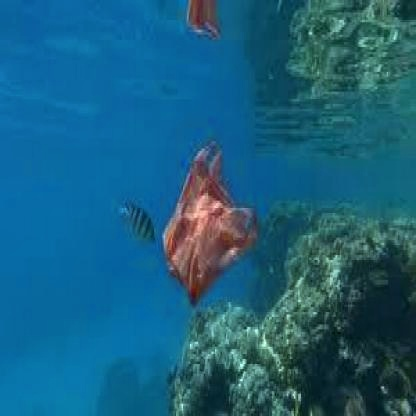pbag: (158, 129, 262, 312)
